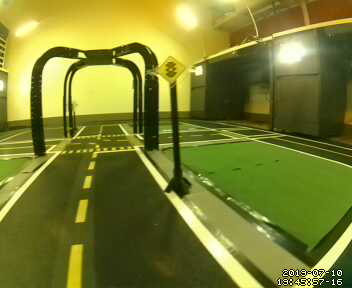Traffic light sign: (158, 54, 186, 84)
